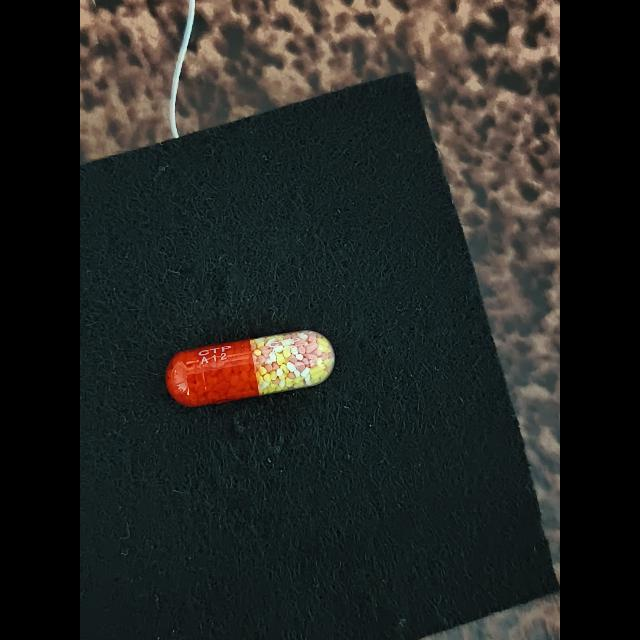Intact Capsule: (165, 330, 335, 407)
